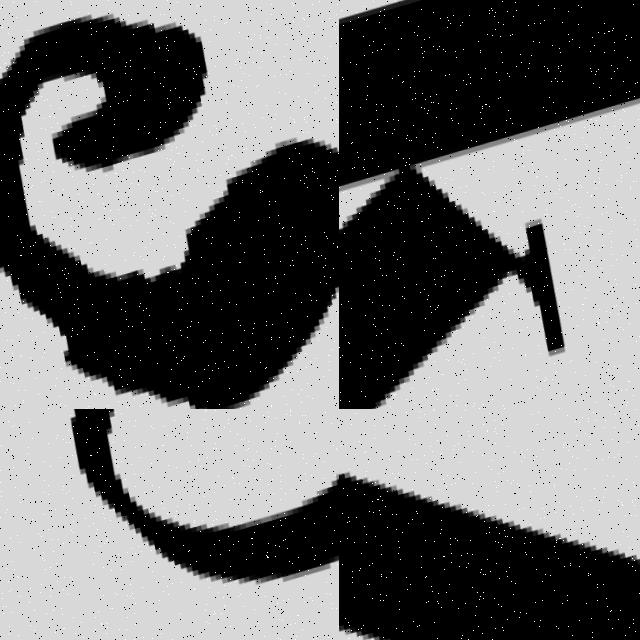K: (339, 0, 640, 409)
P: (73, 409, 339, 591)
S: (0, 0, 339, 409)
Z: (339, 409, 640, 640)
